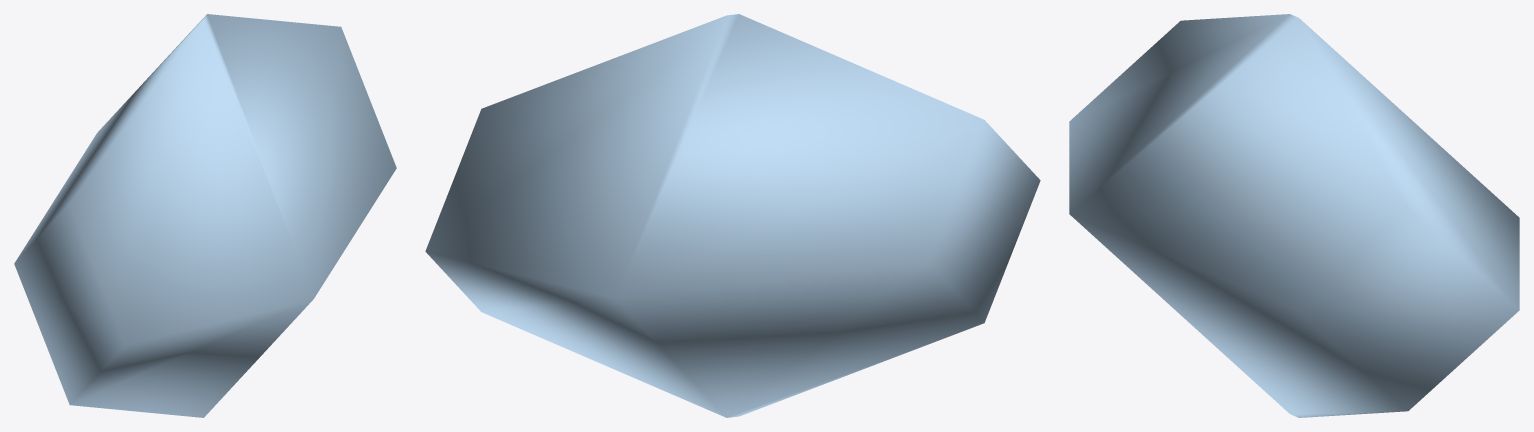
Rendered from azurite.glb.
3 views of the same model, side by side, from view 1: azimuth 30°, elevation 25°; view 2: azimuth 150°, elevation 25°; view 3: azimuth 270°, elevation 25° (orthographic).
Parts seen in each view (by area): view 1: azurite; view 2: azurite; view 3: azurite.
Boxes of the visible parts, left/top/right/bottom form: azurite: left=14, top=14, right=396, bottom=417; azurite: left=425, top=14, right=1040, bottom=417; azurite: left=1069, top=14, right=1519, bottom=417.
Bounding box in the file's own units: 1.4 × 1.39 × 1.41.
